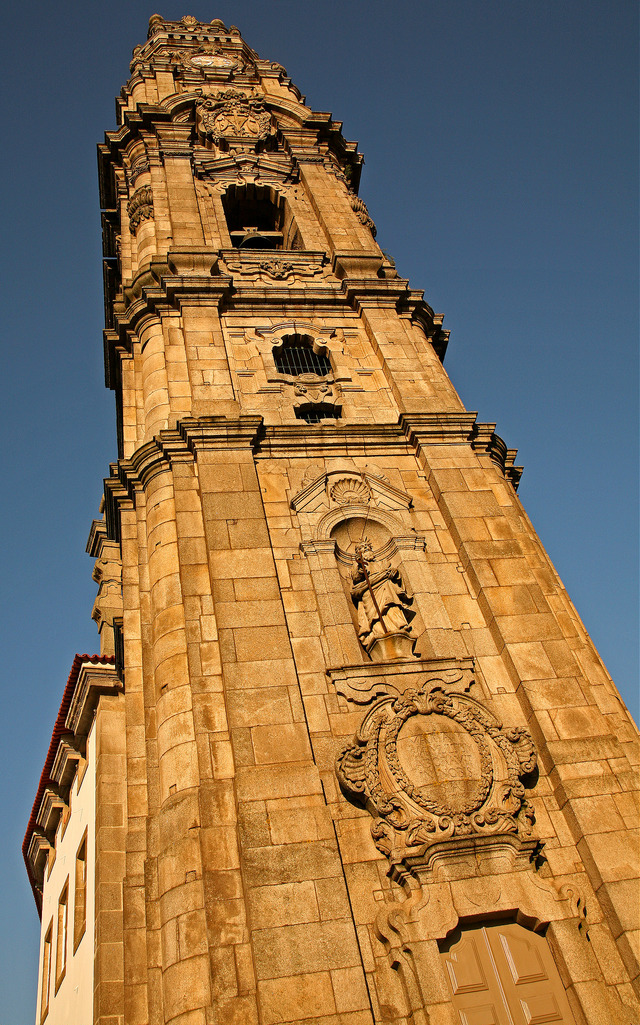clerigos: (18, 0, 639, 1024)
